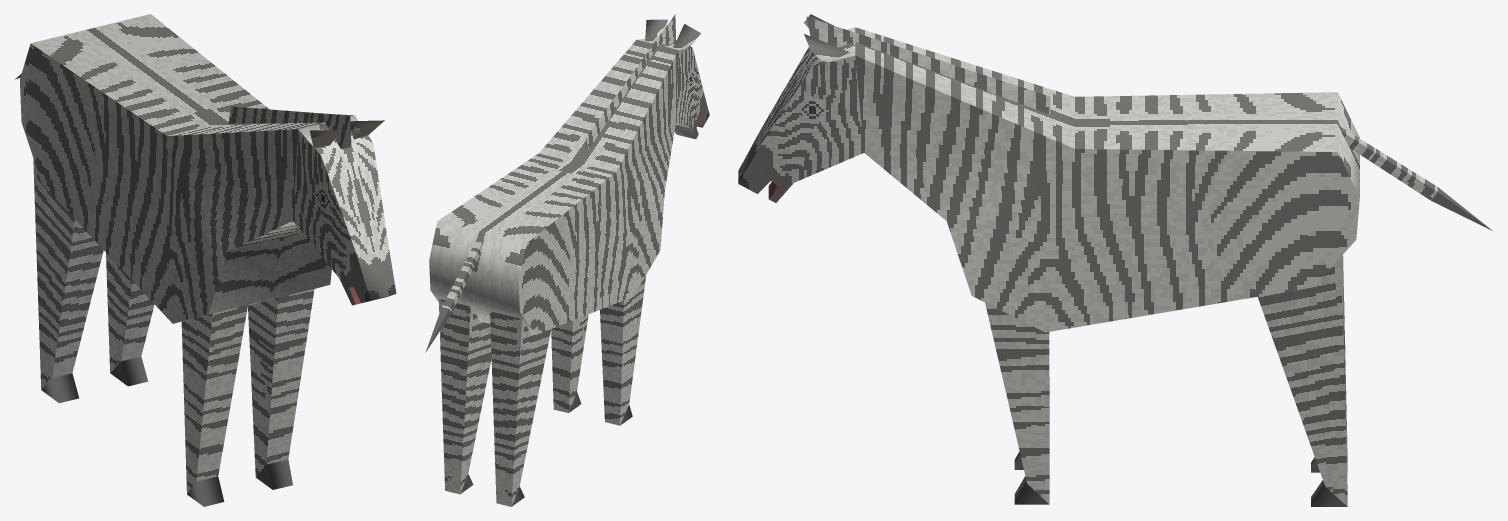
Rendered from 0a9a_Zebra.glb.
3 renders of one model, left to right at view 1: azimuth 30°, elevation 25°; view 2: azimuth 150°, elevation 25°; view 3: azimuth 270°, elevation 25°, orthographic. The views are drawn at different scales.
Visible parts, largest first — view 1: part_0; view 2: part_0; view 3: part_0.
Part boxes in pixels (bbox=[...]): part_0: bbox=[15, 14, 396, 506]; part_0: bbox=[425, 14, 709, 506]; part_0: bbox=[738, 14, 1492, 506].
Bounding box in the file's own units: 0.5016 × 1.8 × 2.64.
1 material, 1 textured.
